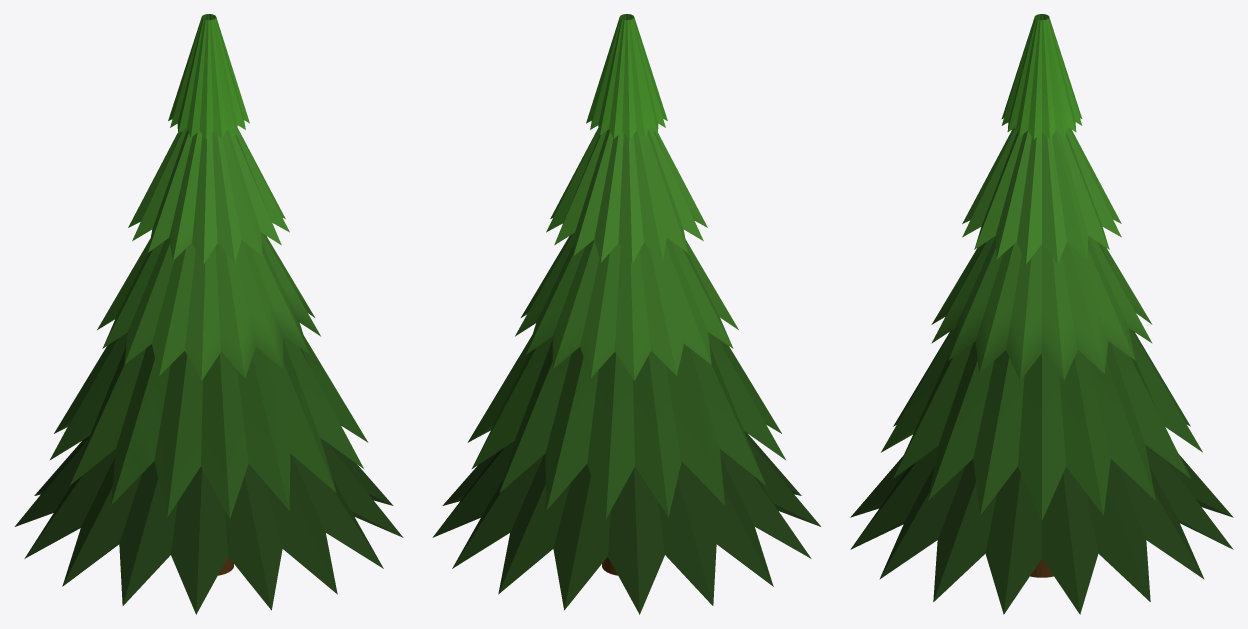
File: arbol-resized.fbx
3 renders of one model, left to right at view 1: azimuth 30°, elevation 25°; view 2: azimuth 150°, elevation 25°; view 3: azimuth 270°, elevation 25°, orthographic.
Parts seen in each view (by area): view 1: Arbol; view 2: Arbol; view 3: Arbol.
Part boxes in pixels (x1,y1,x2,y2): Arbol: (14,14,403,614); Arbol: (432,14,820,614); Arbol: (850,14,1233,614).
Size of the model in its own units: 275 by 435 by 275.
